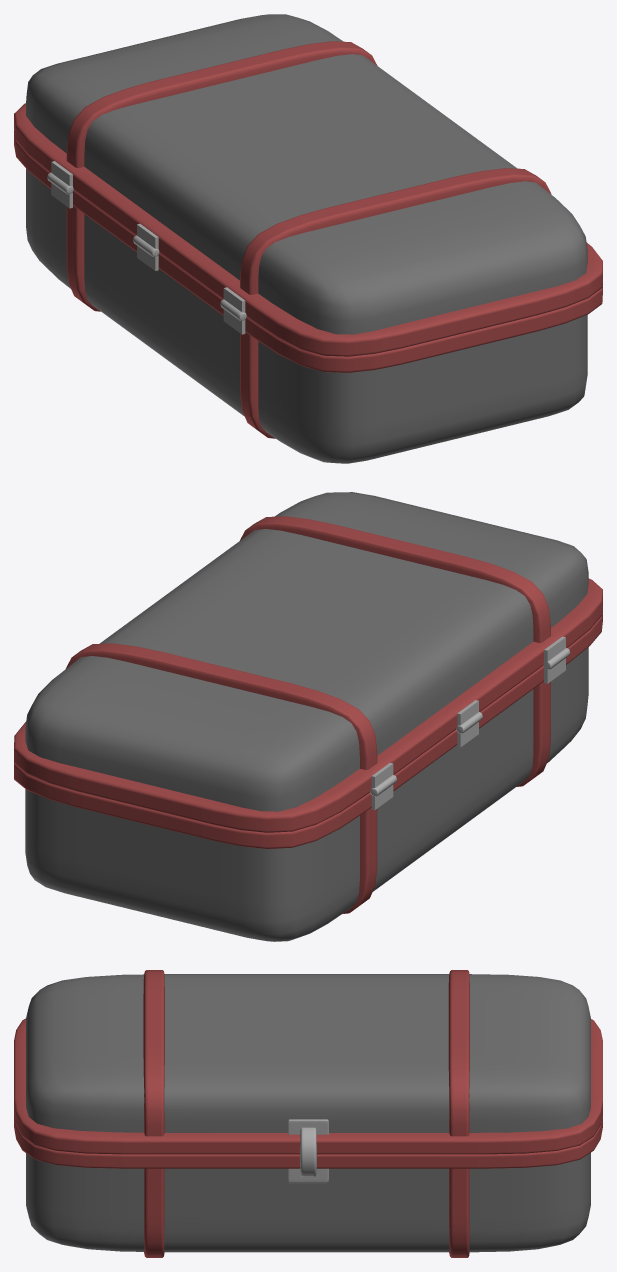
The model's file is Chest_1.fbx.
3 renders of one model, top to bottom at view 1: azimuth 30°, elevation 25°; view 2: azimuth 150°, elevation 25°; view 3: azimuth 270°, elevation 25°, orthographic. The views are drawn at different scales.
Visible parts, largest first — view 1: Chest_1; view 2: Chest_1; view 3: Chest_1.
Boxes of the visible parts, box(x1,y1,x2,y2) form: Chest_1: box(14, 14, 602, 463); Chest_1: box(14, 492, 602, 941); Chest_1: box(14, 970, 602, 1257).
Bounding box in the file's own units: 6.56 × 4.02 × 11.23.
